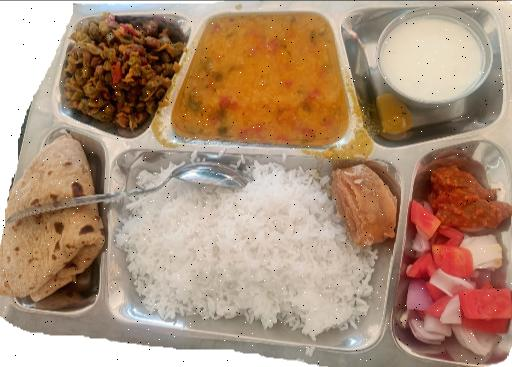Curd: (376, 11, 495, 106)
Dal: (184, 15, 338, 142)
Pickle: (419, 152, 512, 226)
Rice: (116, 166, 372, 336)
Roti: (0, 130, 105, 311)
Salad: (401, 232, 512, 366)
Sweet: (324, 160, 400, 240)
Vegetable: (66, 18, 176, 126)
